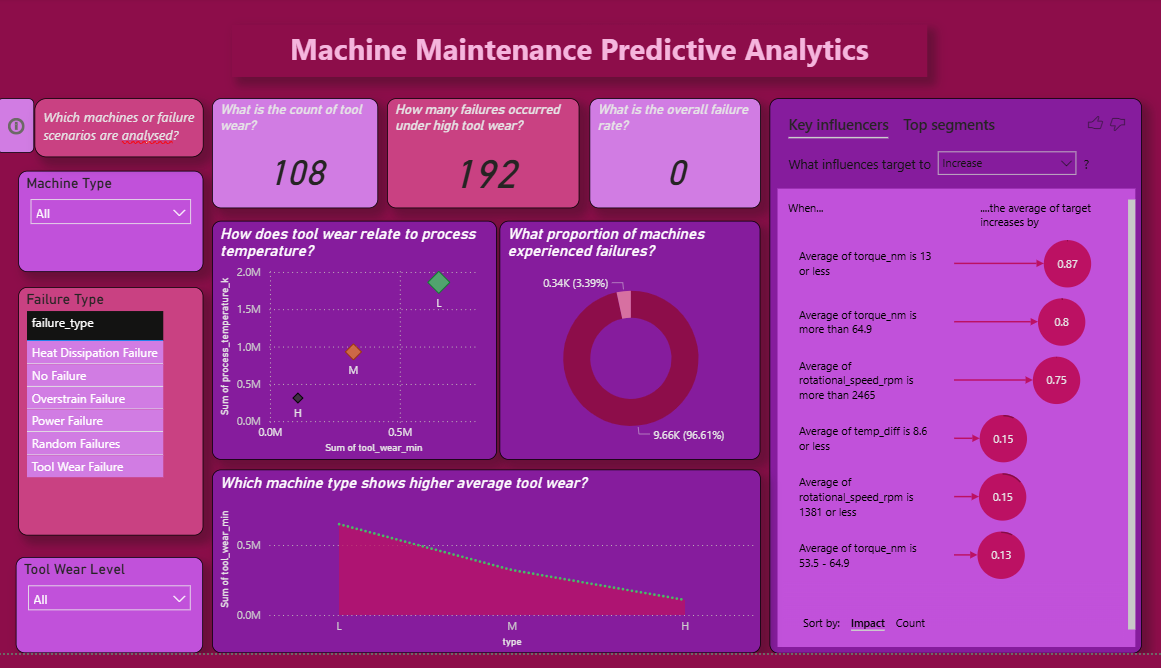

The dashboard page shown, as its layout file describes it:
{"tool":"powerbi","page":{"name":"Maintenance Overview","canvas":[1280,720],"ordinal":0},"visuals":[{"type":"slicer","title":"Machine Type","fields":{"Values":["output_predictive_data.type"]},"box":[23.3,264.8,203.1,111.1],"z":0},{"type":"tableEx","title":"Failure Type","fields":{"Values":["output_predictive_data.failure_type"]},"box":[23.3,376,203.1,238.8],"z":1000},{"type":"slicer","title":"Tool Wear Level","fields":{"Values":["output_predictive_data.wear_level"]},"box":[20.6,614.8,205.8,105.7],"z":2000},{"type":"actionButton","box":[0,183.9,41.2,60.4],"z":3000},{"type":"textbox","box":[41.2,190.7,185.2,64.5],"z":4000},{"type":"card","title":"What is the count of tool wear?","fields":{"Values":["output_predictive_data.Avg Tool Wear (DAX)"]},"box":[236,111.1,182.5,120.8],"z":5000},{"type":"card","title":"How many failures occurred under high tool wear?","fields":{"Values":["output_predictive_data.High Wear Failures"]},"box":[428.1,111.1,211.3,120.8],"z":6000},{"type":"card","title":"What is the overall failure rate?","fields":{"Values":["output_predictive_data.Failure Rate %"]},"box":[650.4,111.1,188,120.8],"z":7000},{"type":"scatterChart","title":"How does tool wear relate to process temperature?","fields":{"X":["Sum(output_predictive_data.tool_wear_min)"],"Y":["Sum(output_predictive_data.process_temperature_k)"],"Size":["Sum(output_predictive_data.torque_nm)"],"Series":["output_predictive_data.type"]},"box":[236,245.6,312.9,262.1],"z":8000},{"type":"donutChart","title":"What proportion of machines experienced failures?","fields":{"Category":["output_predictive_data.target"],"Y":["CountNonNull(output_predictive_data.udi)"]},"box":[551.6,245.6,286.8,262.1],"z":9000},{"type":"keyDriversVisual","fields":{"Target":["output_predictive_data.target"],"ExplainBy":["CountNonNull(output_predictive_data.tool_wear_min)","Avg(output_predictive_data.temp_diff)","Avg(output_predictive_data.torque_nm)","Avg(output_predictive_data.rotational_speed_rpm)"]},"box":[848,111.1,408.9,609.3],"z":10000},{"type":"lineChart","title":"Which machine type shows higher average tool wear?","fields":{"Category":["output_predictive_data.type"],"Y":["Sum(output_predictive_data.tool_wear_min)"]},"box":[236,518.7,602.4,201.7],"z":11000},{"type":"textbox","box":[380.1,0,518.7,96.1],"z":11001}]}

Visuals, with their boxes in screenshot pixels (x1, y1, x2, y2), scaled from the page's 1280x720 canvas onto the 1161x668 screenshot:
"Machine Type" slicer: <region>21, 246, 205, 349</region>
"Failure Type" tableEx: <region>21, 349, 205, 570</region>
"Tool Wear Level" slicer: <region>19, 570, 205, 667</region>
actionButton: <region>0, 171, 37, 227</region>
textbox: <region>37, 177, 205, 237</region>
"What is the count of tool wear?" card: <region>214, 103, 380, 215</region>
"How many failures occurred under high tool wear?" card: <region>388, 103, 580, 215</region>
"What is the overall failure rate?" card: <region>590, 103, 760, 215</region>
"How does tool wear relate to process temperature?" scatterChart: <region>214, 228, 498, 471</region>
"What proportion of machines experienced failures?" donutChart: <region>500, 228, 760, 471</region>
keyDriversVisual - output_predictive_data.target x CountNonNull(output_predictive_data.tool_wear_min): <region>769, 103, 1140, 667</region>
"Which machine type shows higher average tool wear?" lineChart: <region>214, 481, 760, 667</region>
textbox: <region>345, 0, 815, 89</region>
